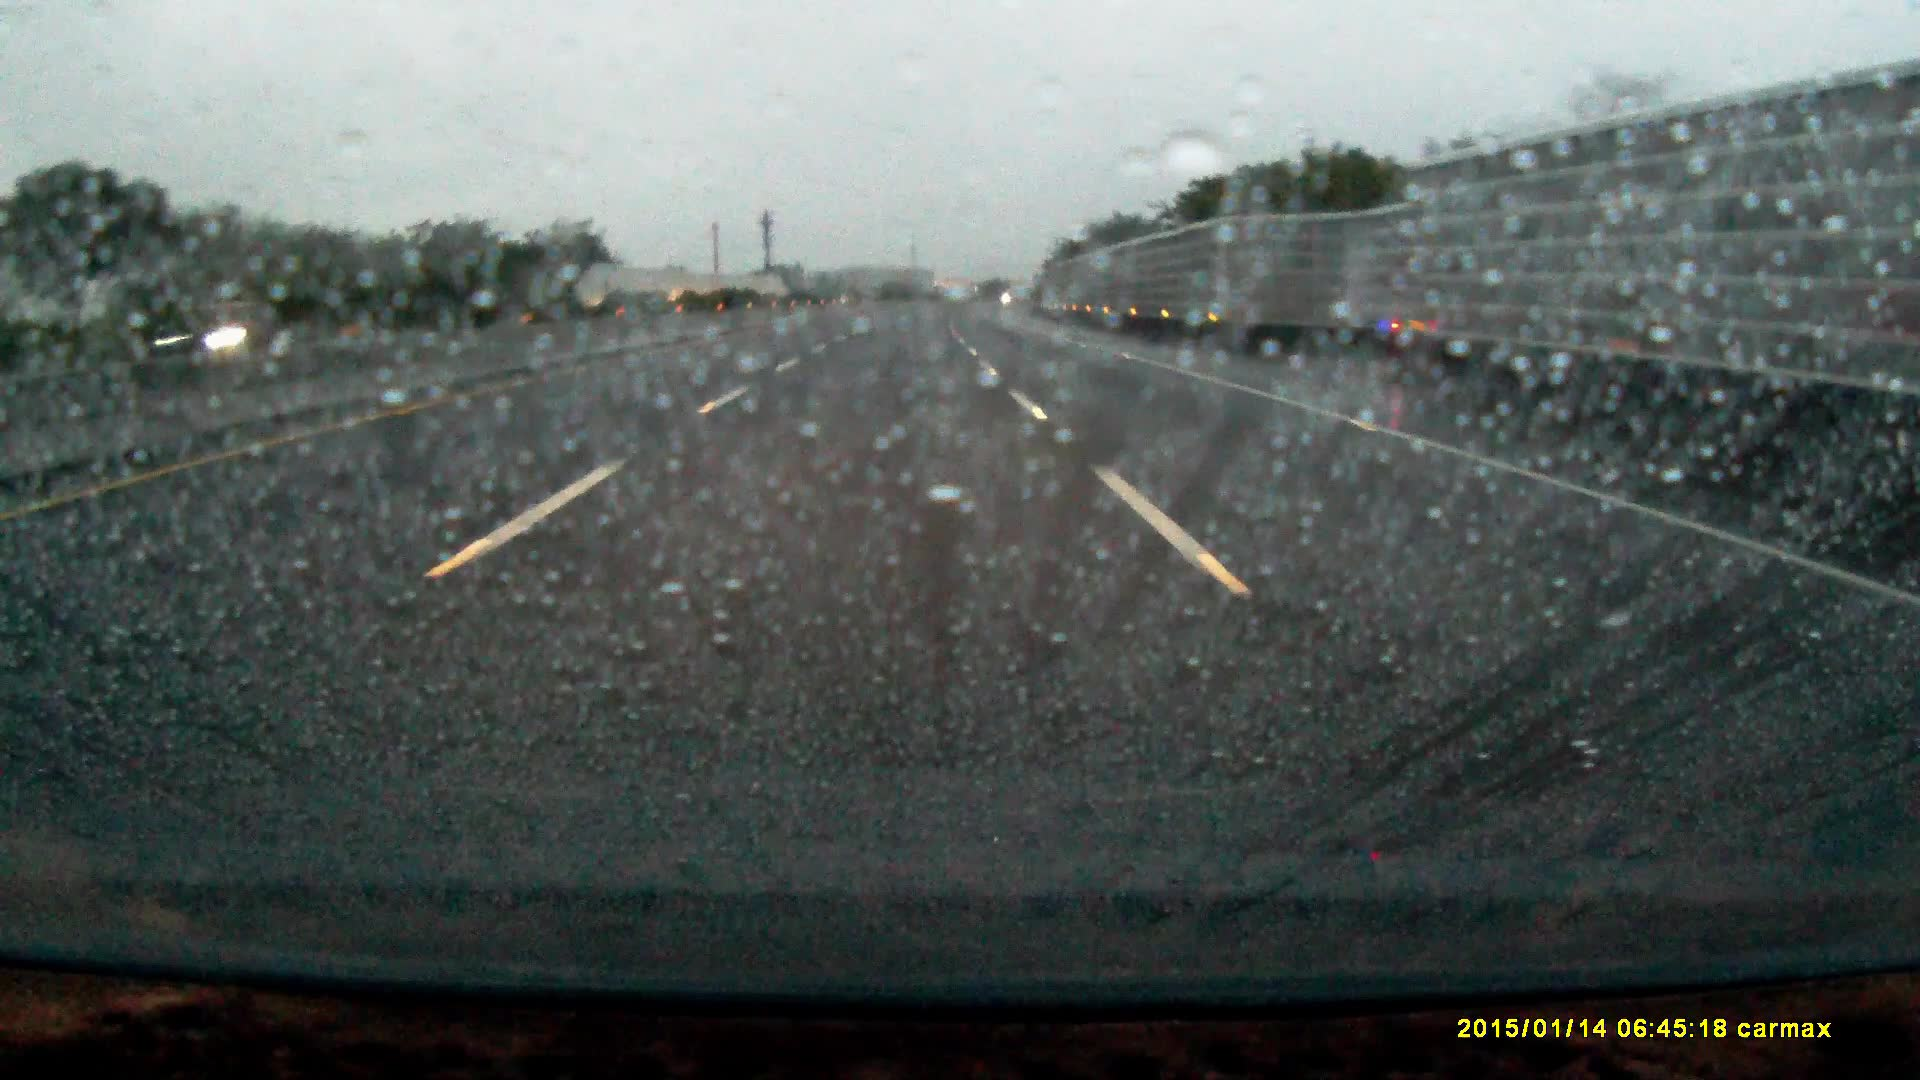vehicle: (156, 303, 280, 357)
